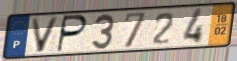2: (151, 11, 176, 46)
3: (90, 12, 116, 51)
4: (181, 6, 205, 46)
7: (123, 11, 148, 49)
P: (55, 14, 90, 54)
V: (29, 16, 61, 54)
